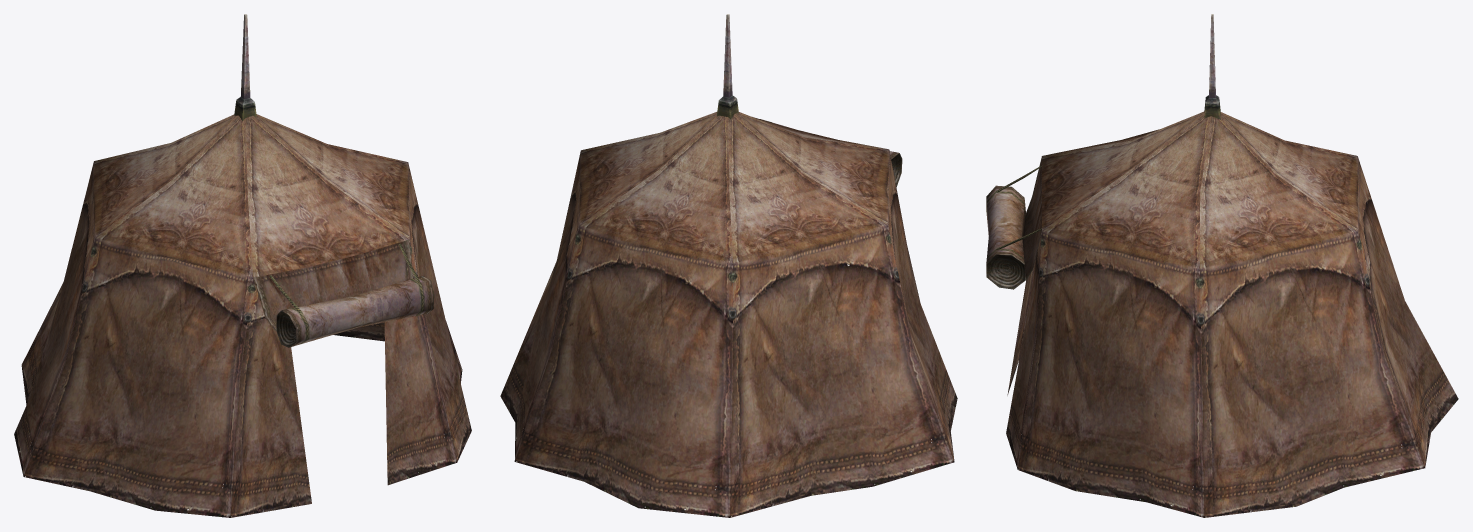
The model's file is triton_tent_03.glb.
3 renders of one model, left to right at view 1: azimuth 30°, elevation 25°; view 2: azimuth 150°, elevation 25°; view 3: azimuth 270°, elevation 25°, orthographic.
Parts seen in each view (by area): view 1: kampus_patient_tent2; view 2: kampus_patient_tent2; view 3: kampus_patient_tent2.
Part boxes in pixels (box(x1,y1,x2,y2)): kampus_patient_tent2: box(14, 14, 471, 517); kampus_patient_tent2: box(500, 14, 957, 517); kampus_patient_tent2: box(986, 14, 1458, 517).
Size of the model in its own units: 10.82 by 9.51 by 10.16.
Materials: 1 (1 with a texture image).
